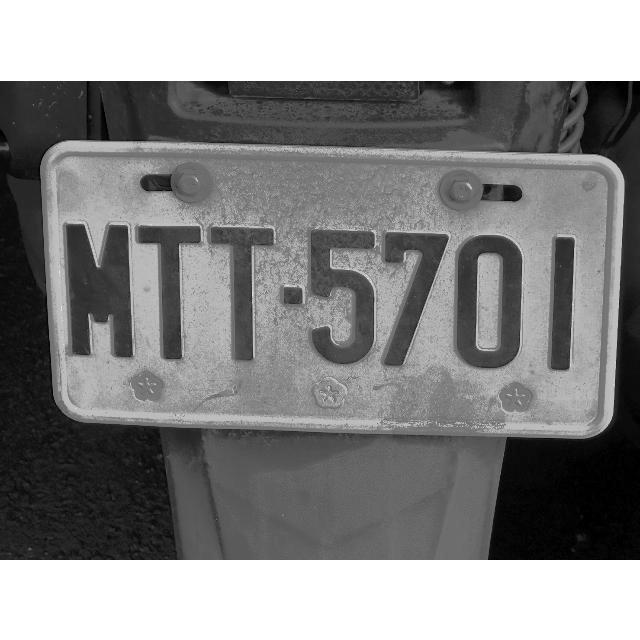-: (280, 277, 304, 317)
0: (458, 232, 524, 372)
1: (544, 230, 584, 378)
5: (307, 225, 379, 369)
7: (380, 224, 452, 370)
M: (65, 220, 137, 364)
T: (135, 220, 207, 366), (205, 222, 275, 366)
